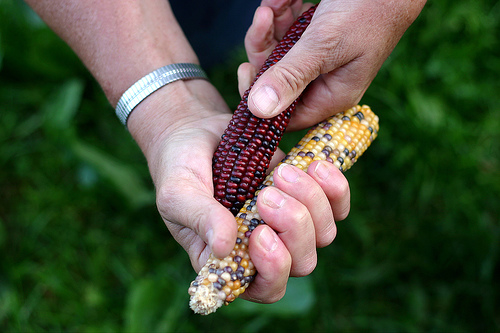corn: (188, 104, 378, 311), (213, 2, 321, 216)
